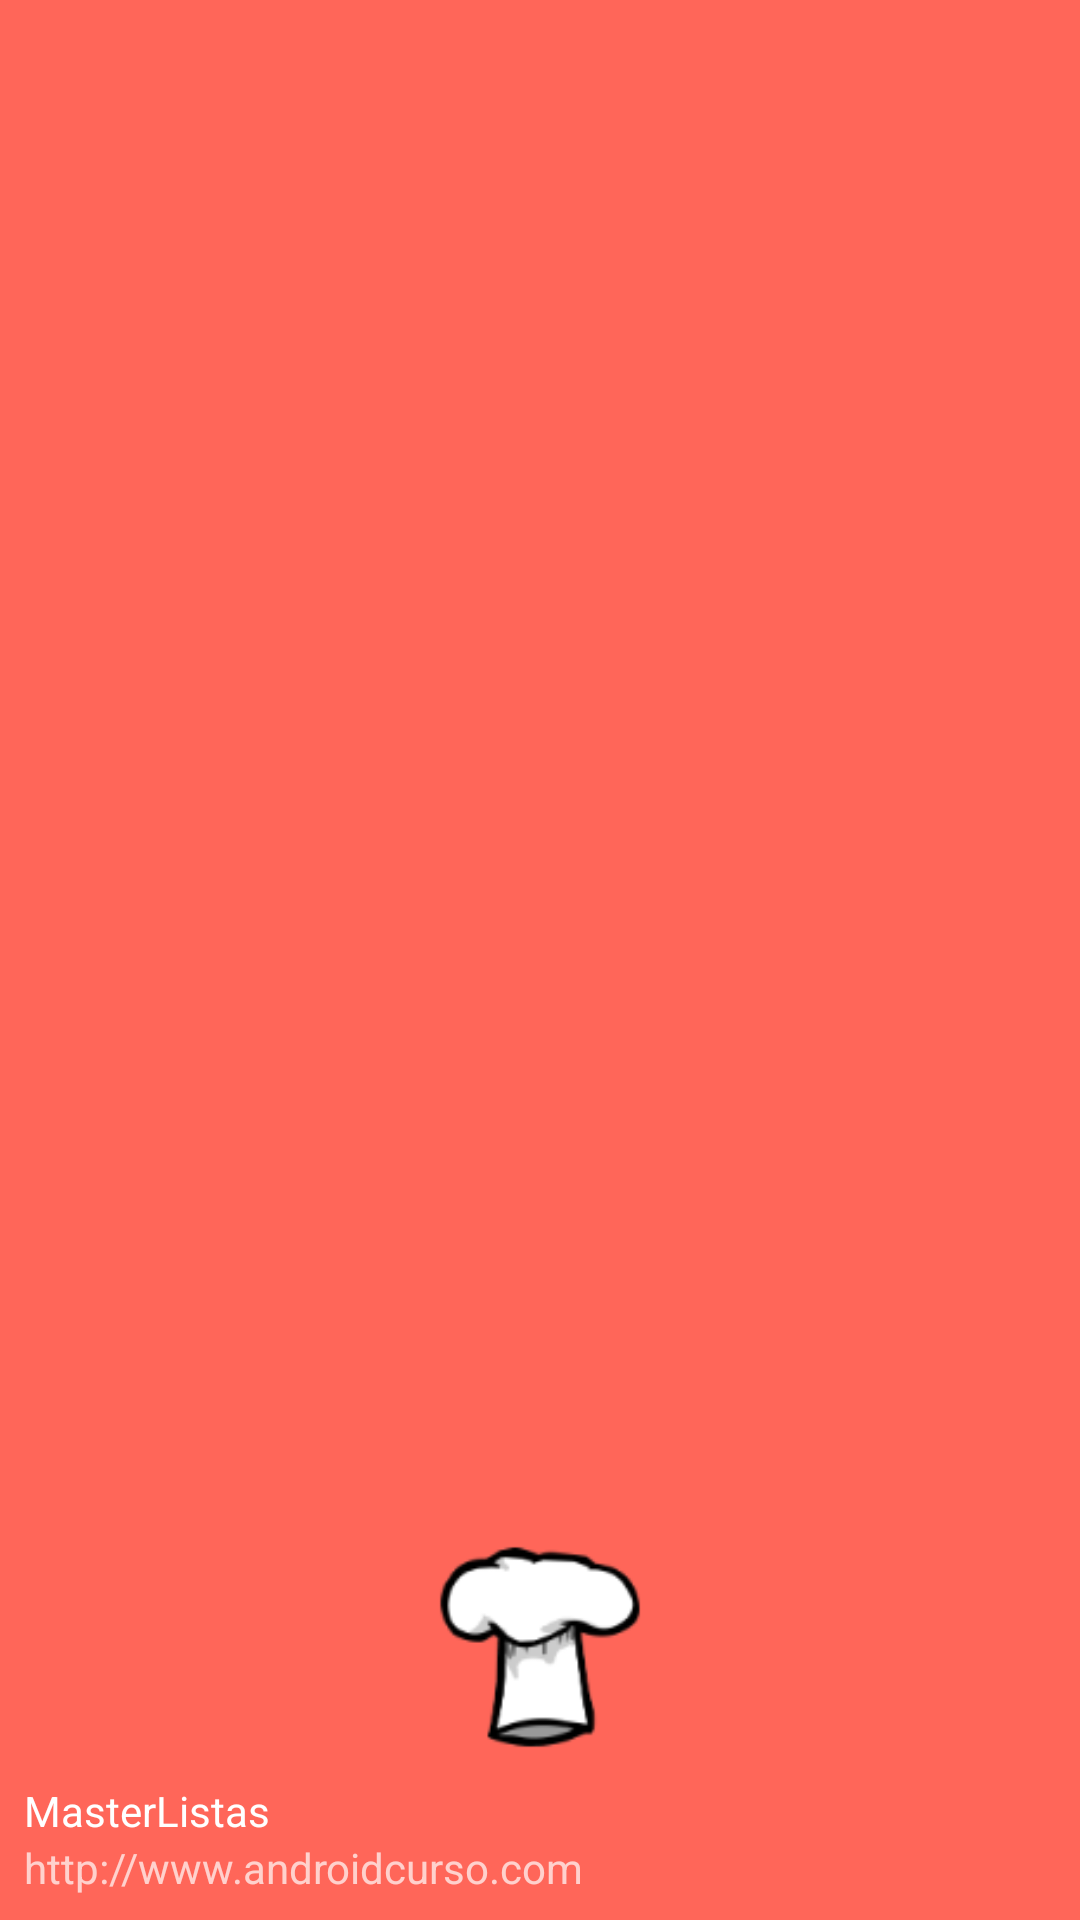

Where icons sit on this 1080 x 1920 app screen, as [x1, y1, x2, y2]:
chefhat full: [440, 1547, 640, 1747]
